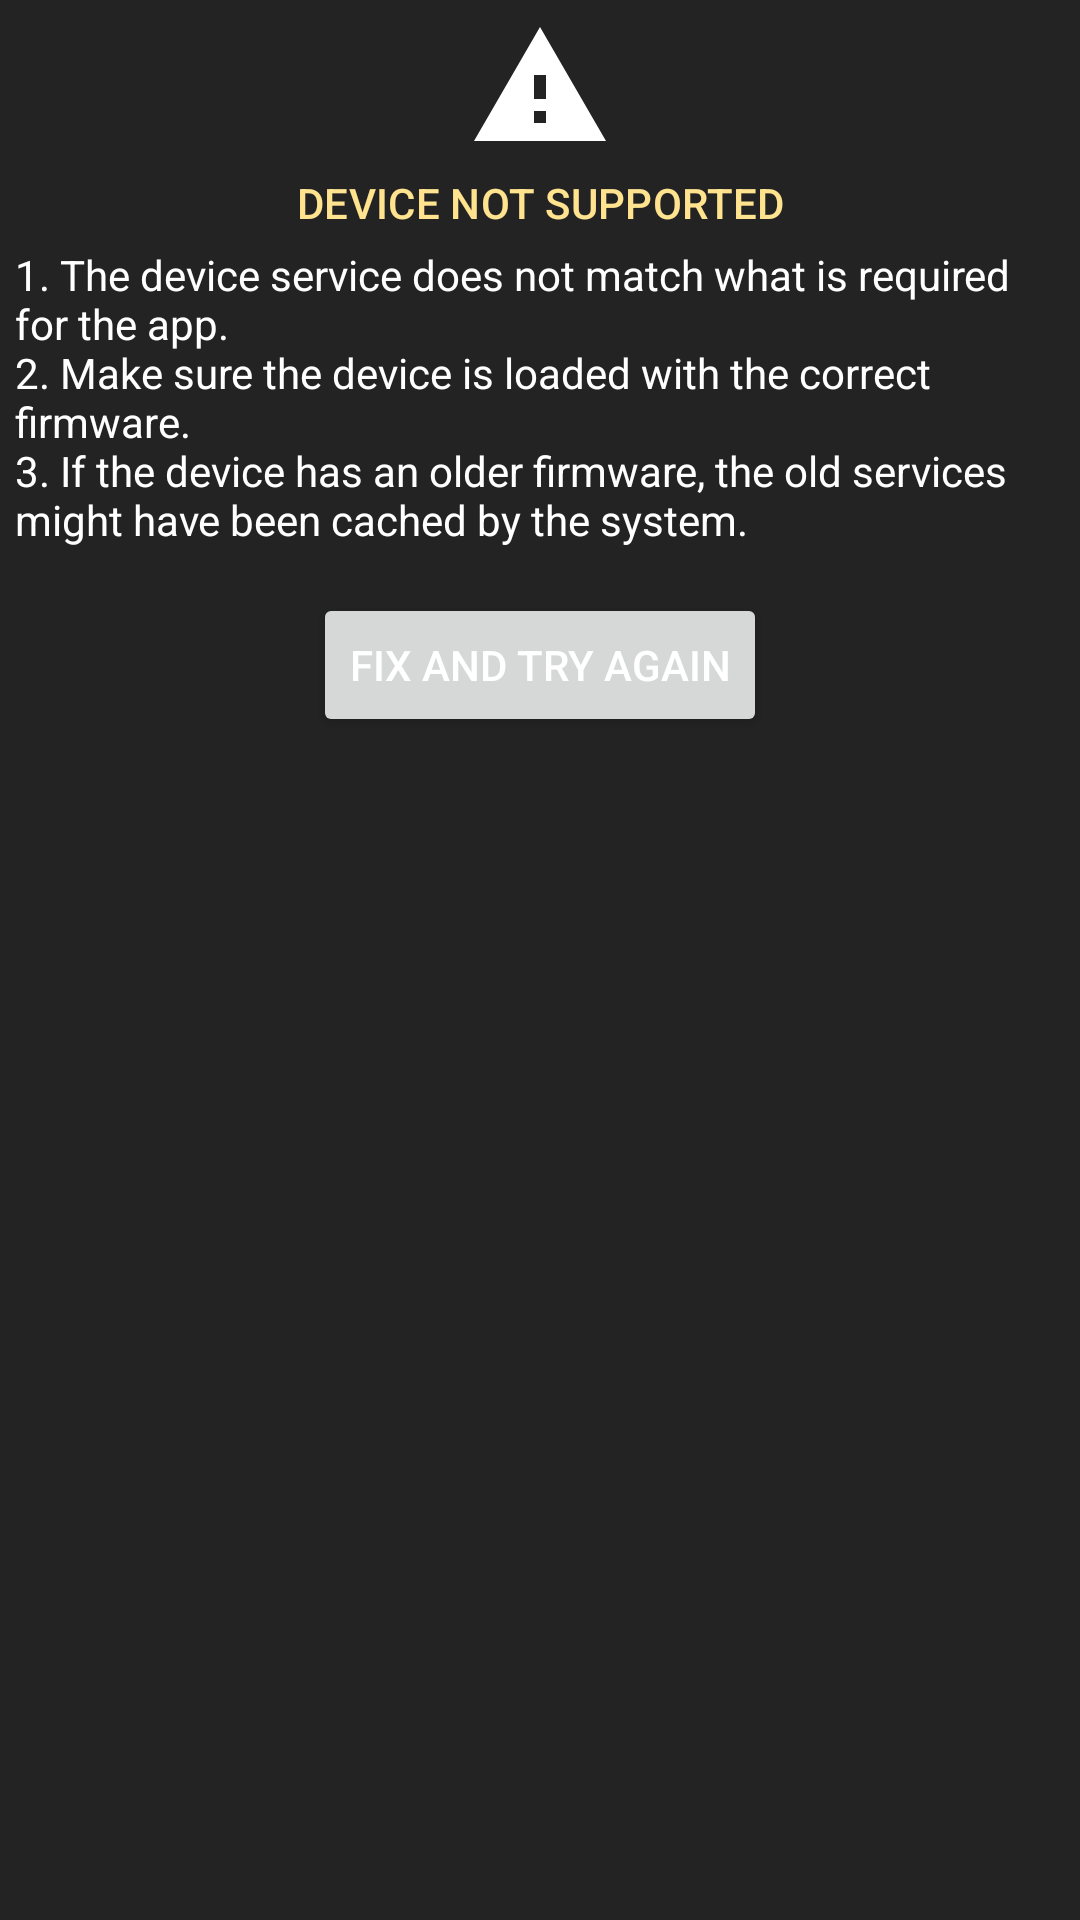

Icon click points for this 1080 × 1920 phone screenshot, format (x,y):
alert: (540,84)
